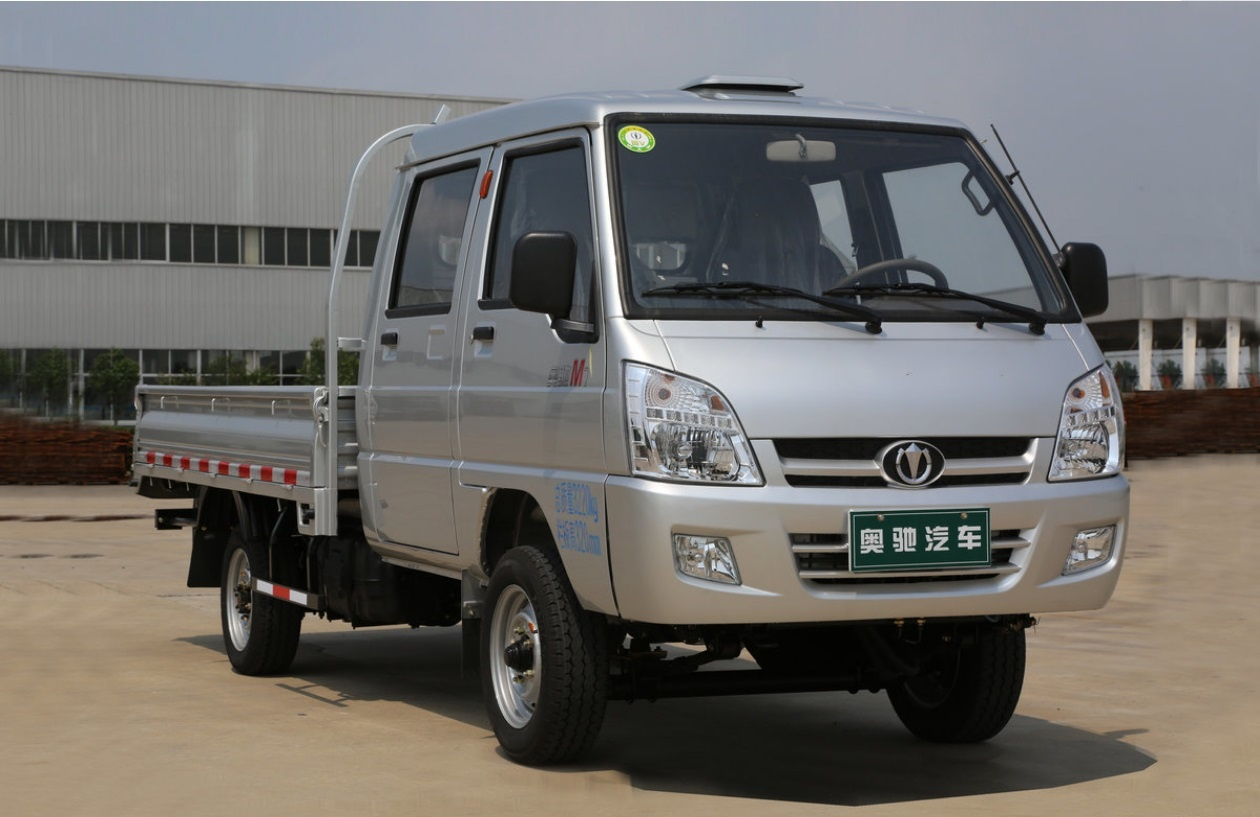truck: (120, 62, 1127, 757)
